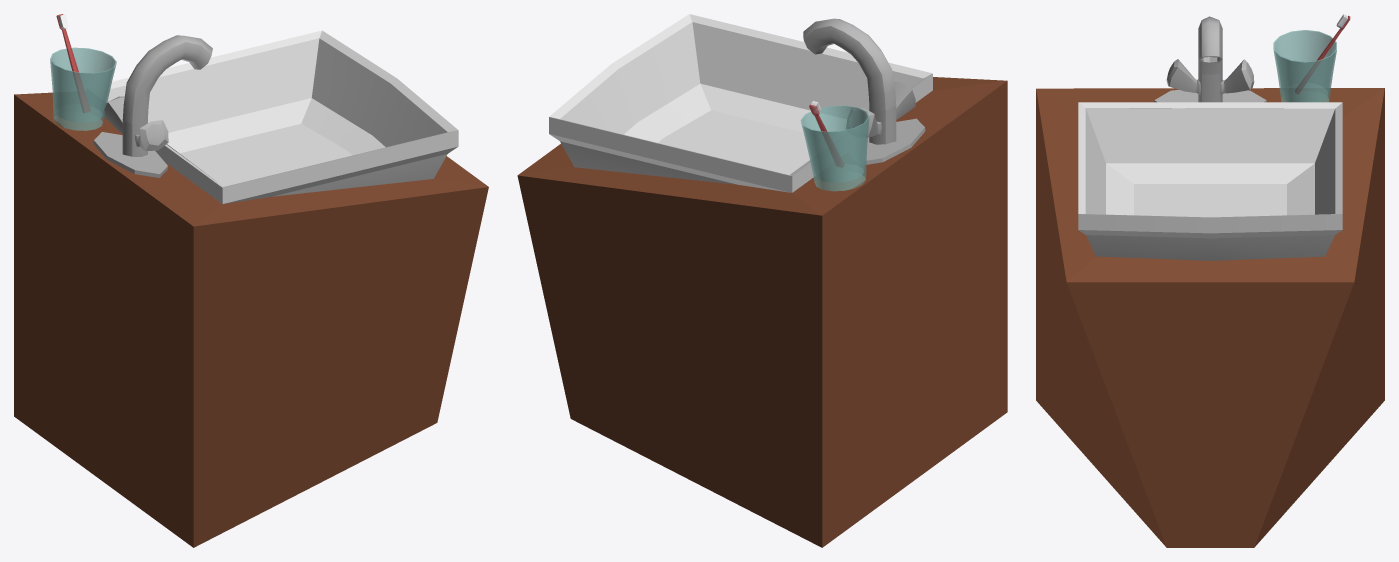
File: Sink.fbx
3 views of the same model, side by side, from view 1: azimuth 30°, elevation 25°; view 2: azimuth 150°, elevation 25°; view 3: azimuth 270°, elevation 25° (orthographic). The views are drawn at different scales.
Parts seen in each view (by area): view 1: Sink_Cupboard, Sink, Faucet, Cup, Faucet_Ground, MOD_Brush02A; view 2: Sink_Cupboard, Sink, Faucet, Cup, Faucet_Ground; view 3: Sink_Cupboard, Sink, Cup, Faucet, Faucet_Ground, MOD_Brush02A.
Part boxes in pixels (x1,y1,x2,y2): Sink_Cupboard: [14, 92, 488, 547]; Sink: [103, 30, 458, 204]; Faucet: [104, 35, 212, 156]; Cup: [50, 47, 116, 130]; Faucet_Ground: [93, 132, 167, 177]; MOD_Brush02A: [56, 14, 90, 112]; Sink_Cupboard: [517, 77, 1007, 547]; Sink: [549, 14, 932, 192]; Faucet: [803, 18, 915, 144]; Cup: [800, 105, 869, 191]; Faucet_Ground: [865, 118, 925, 164]; Sink_Cupboard: [1036, 88, 1384, 547]; Sink: [1078, 102, 1342, 260]; Cup: [1273, 30, 1336, 102]; Faucet: [1166, 16, 1254, 102]; Faucet_Ground: [1154, 90, 1266, 102]; MOD_Brush02A: [1295, 14, 1350, 94].
Bounding box in the file's own units: 31.07 × 40.75 × 31.02.
